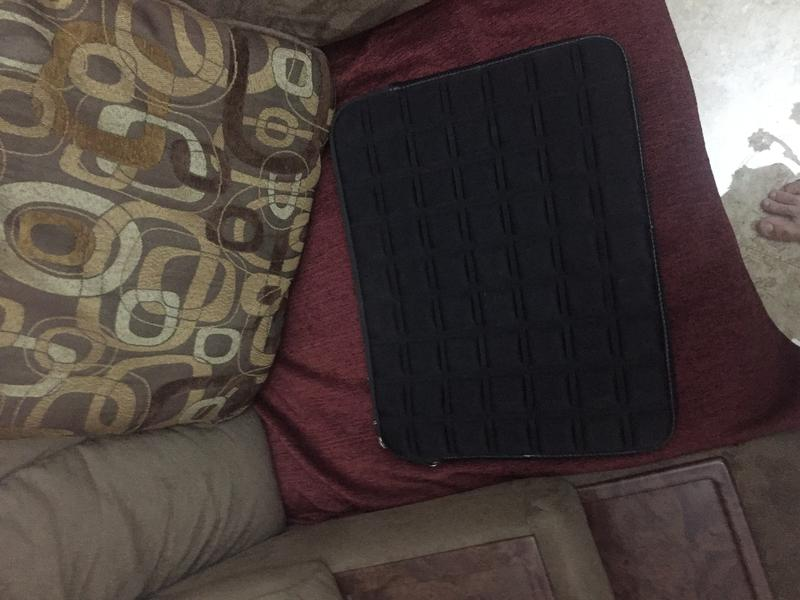cover: (319, 37, 687, 466)
